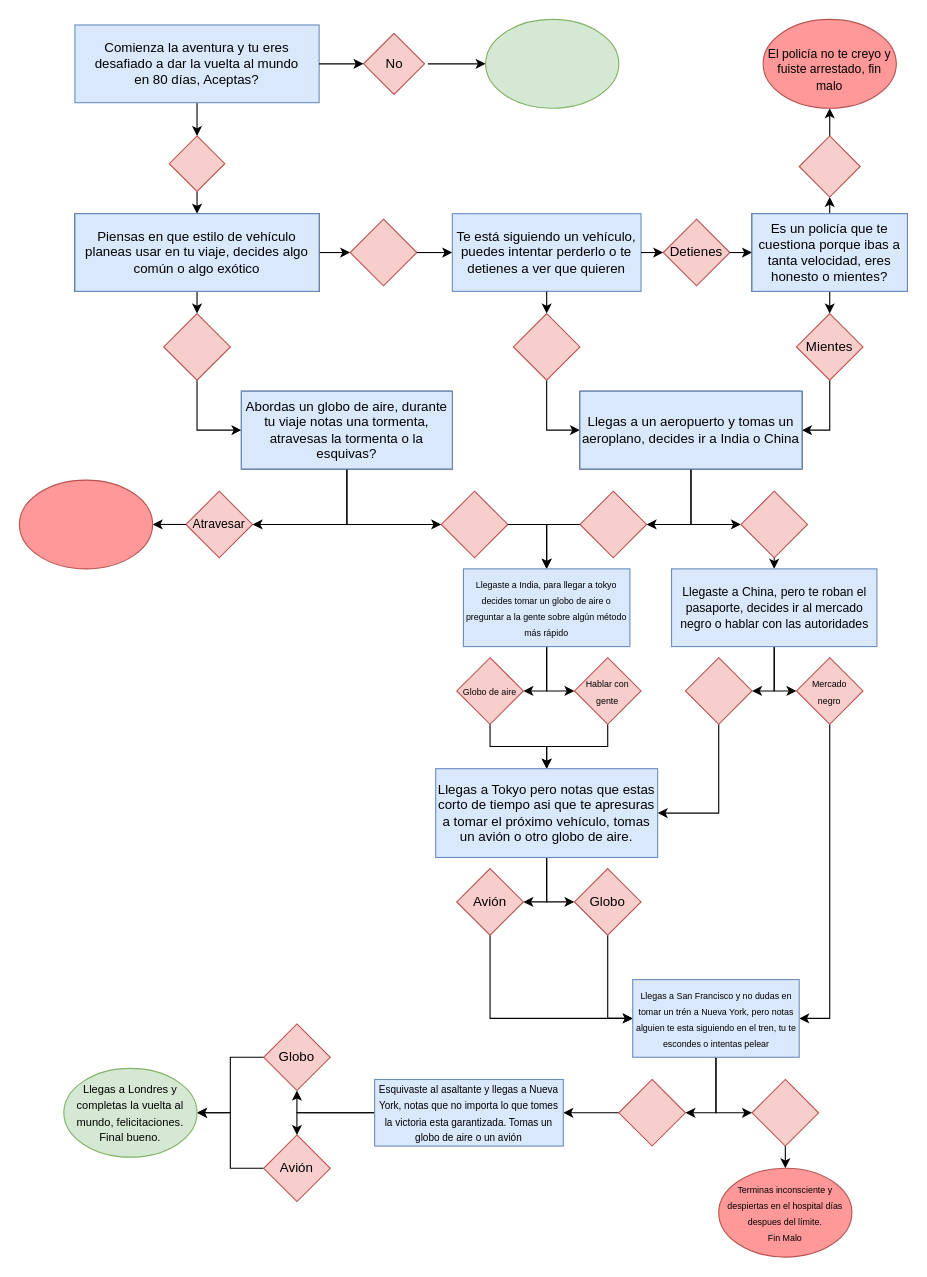
Image size: 927x1277. Some labels were removed from this diagram. The centre of each missing label's shape, as x and y in pixels:
"Autoridades" goes at point 718,690.
"China" goes at point 774,524.
"Común" goes at point 383,252.
"Eres honesto" goes at point 829,166.
"Escondes" goes at point 651,1112.
"Esquivas" goes at point 474,524.
"Exótico" goes at point 196,346.
"India" goes at point 613,524.
"Intentas perderlo" goes at point 546,346.
"Peleas" goes at point 785,1112.
"Si" goes at point 196,163.
"Te has quedado en casa y no participaste en la apuesta. Fin bueno(?)" goes at point 552,63.
"Trueno atraviesa tu globo y cae al mar y te pierdes en el. Fin malo" goes at point 85,524.
